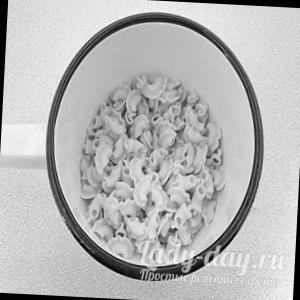pasta: (66, 43, 249, 280)
